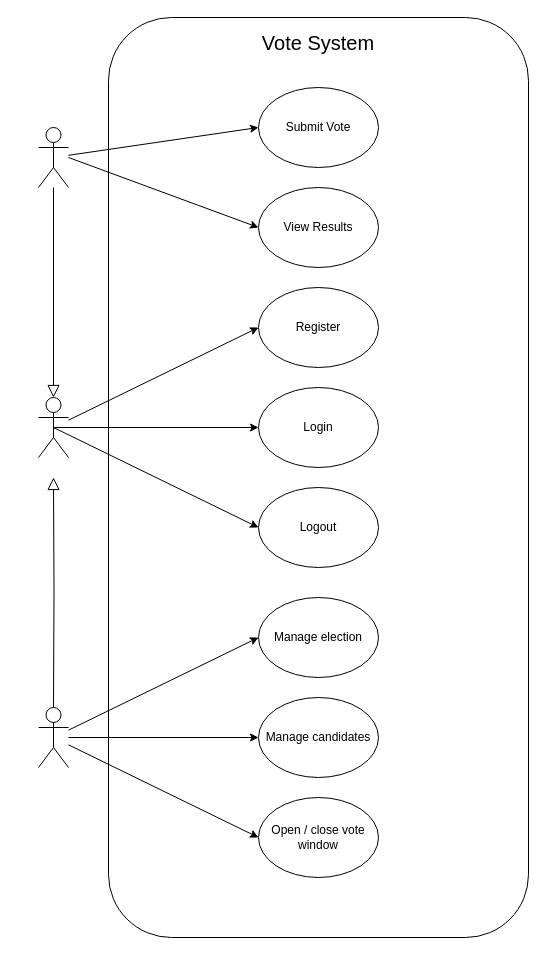
Some shapes in this 546 by 955 pixel diagram are drawn without their labels. Here are the shapes that lost their labels. From the top down, the centre of each, then its label:
At point 53,157: "Authenticated".
At point 53,427: "Anonymous".
At point 53,737: "Admin".
